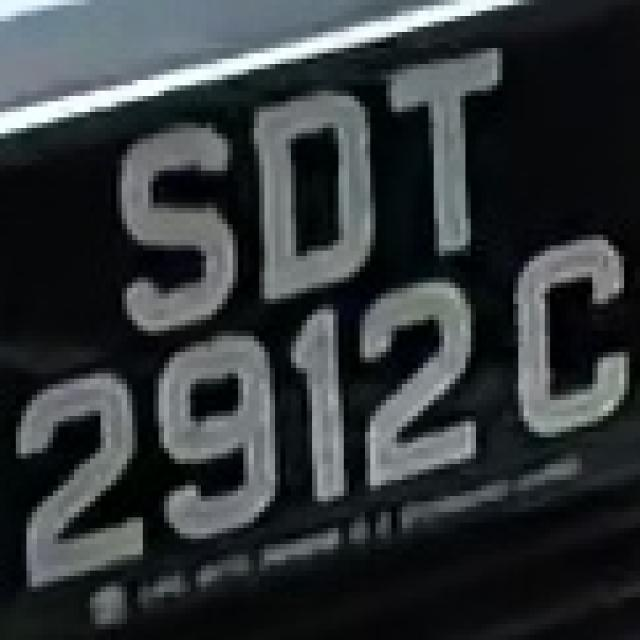1: (275, 304, 370, 528)
2: (10, 357, 154, 603), (344, 283, 476, 496)
9: (142, 314, 286, 538)
C: (498, 218, 630, 458)
D: (243, 58, 386, 314)
S: (116, 96, 233, 357)
T: (365, 48, 513, 256)
